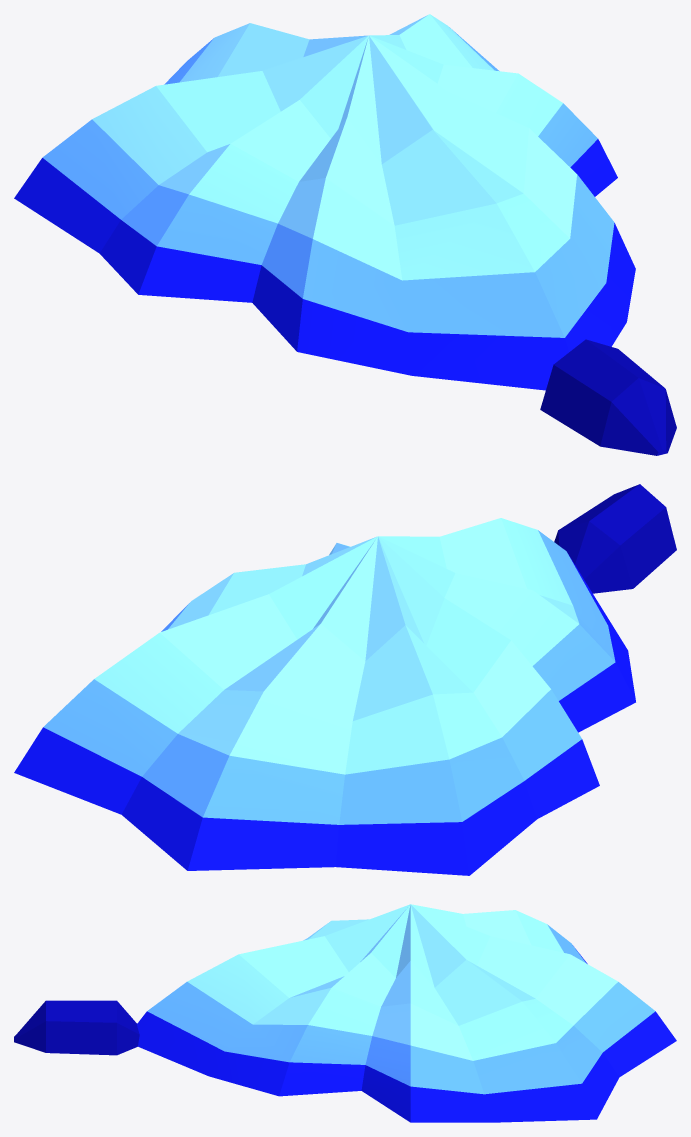
Rendered from shot_ice_148.glb.
3 renders of one model, top to bottom at view 1: azimuth 30°, elevation 25°; view 2: azimuth 150°, elevation 25°; view 3: azimuth 270°, elevation 25°, orthographic. The views are drawn at different scales.
Visible parts, largest first — view 1: shot_ice_148_cap, shot_ice_148_trail; view 2: shot_ice_148_cap, shot_ice_148_trail; view 3: shot_ice_148_cap, shot_ice_148_trail.
Boxes of the visible parts, x1,y1,x2,y2 form: shot_ice_148_cap: [14, 14, 635, 390]; shot_ice_148_trail: [540, 339, 676, 455]; shot_ice_148_cap: [14, 518, 635, 875]; shot_ice_148_trail: [554, 484, 676, 593]; shot_ice_148_cap: [137, 904, 676, 1122]; shot_ice_148_trail: [14, 1000, 139, 1055].
Size of the model in its own units: 5.26 by 2.12 by 9.34.
